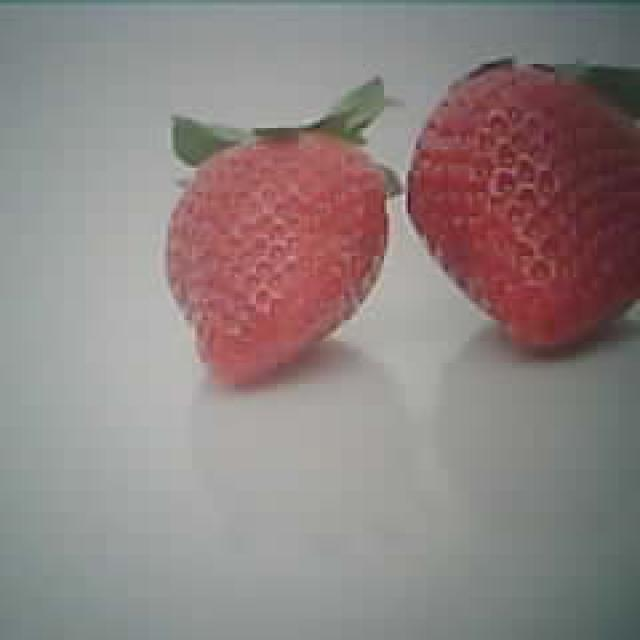strawberry: (403, 59, 640, 356), (165, 124, 388, 380)
